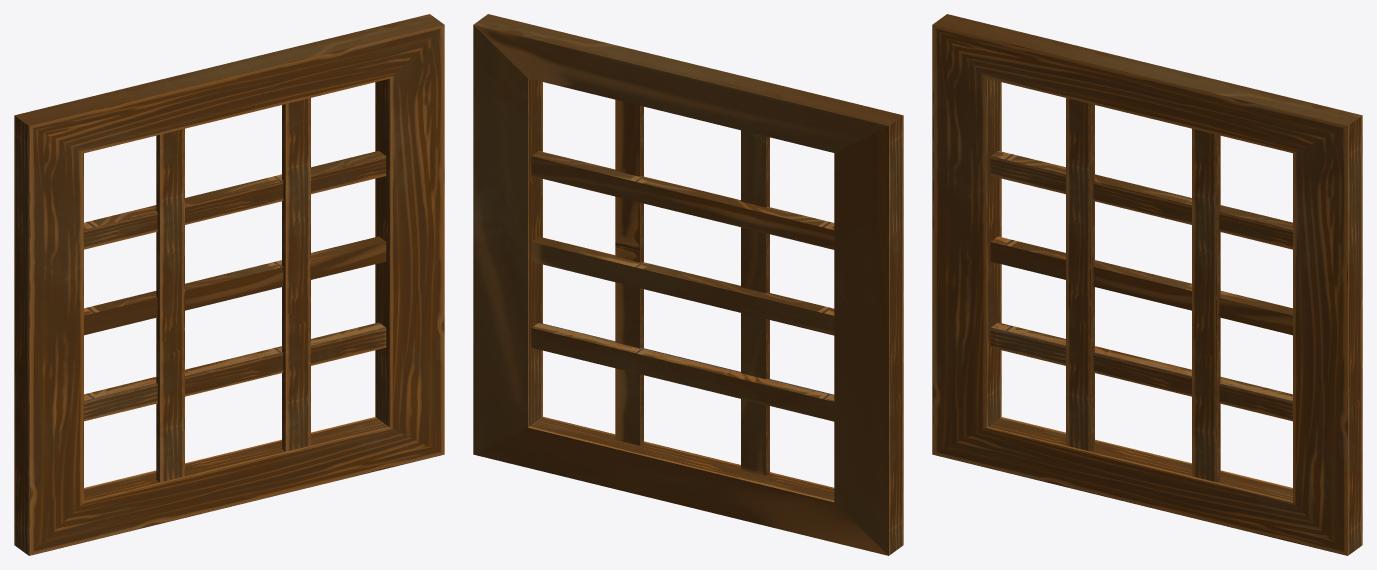
The picture shows the model from 3 angles, left to right: view 1: azimuth 30°, elevation 25°; view 2: azimuth 150°, elevation 25°; view 3: azimuth 330°, elevation 25°; orthographic projection.
Parts seen in each view (by area): view 1: 4x6.061; view 2: 4x6.061; view 3: 4x6.061.
Part boxes in pixels (x1,y1,x2,y2): 4x6.061: (14,14,444,555); 4x6.061: (473,14,903,555); 4x6.061: (932,14,1362,555).
Size of the model in its own units: 173 by 171 by 10.85.
1 material, 1 textured.
